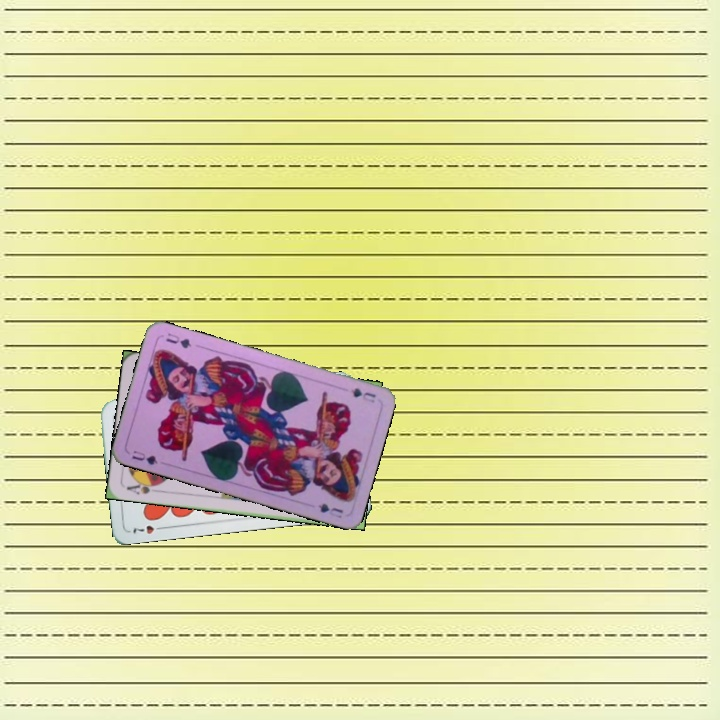GU: (128, 446, 160, 468), (347, 384, 378, 405)
H7: (129, 521, 167, 537)
SA: (122, 477, 163, 497)
